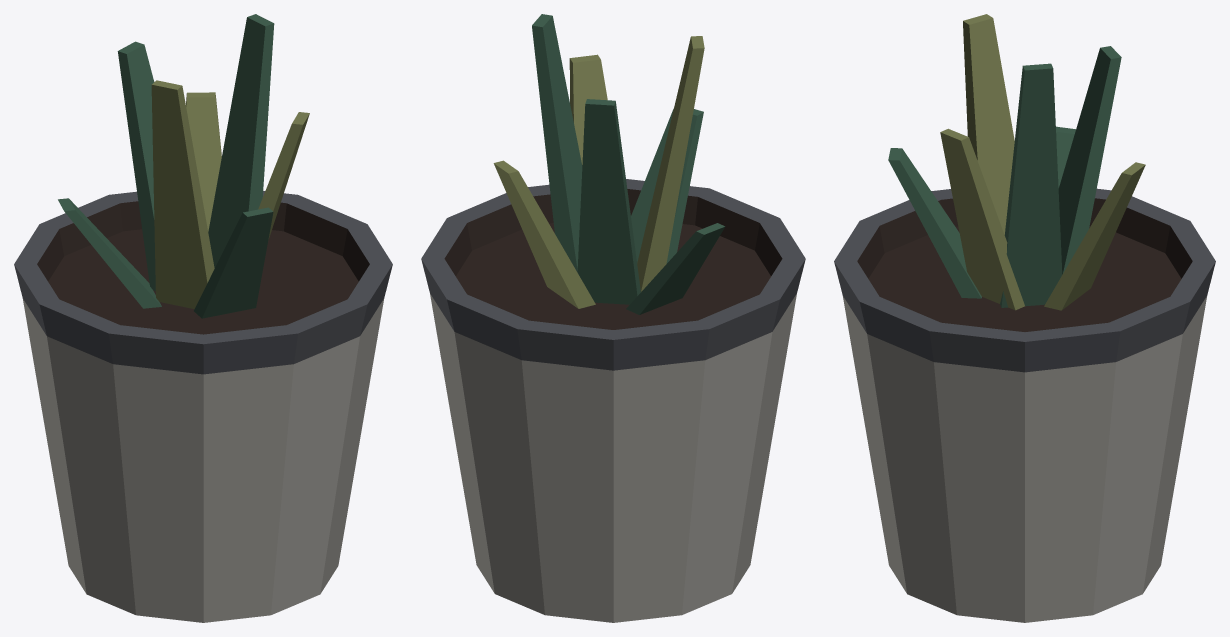
File: FN_Plant_Small.glb
3 renders of one model, left to right at view 1: azimuth 30°, elevation 25°; view 2: azimuth 150°, elevation 25°; view 3: azimuth 270°, elevation 25°, orthographic.
Parts seen in each view (by area): view 1: FN_Plant_Small; view 2: FN_Plant_Small; view 3: FN_Plant_Small.
Part boxes in pixels (box(x1,y1,x2,y2)): FN_Plant_Small: box(14, 14, 392, 622); FN_Plant_Small: box(421, 14, 805, 622); FN_Plant_Small: box(834, 14, 1215, 622).
Bounding box in the file's own units: 0.264 × 0.404 × 0.264.
Materials: 1 (1 with a texture image).
